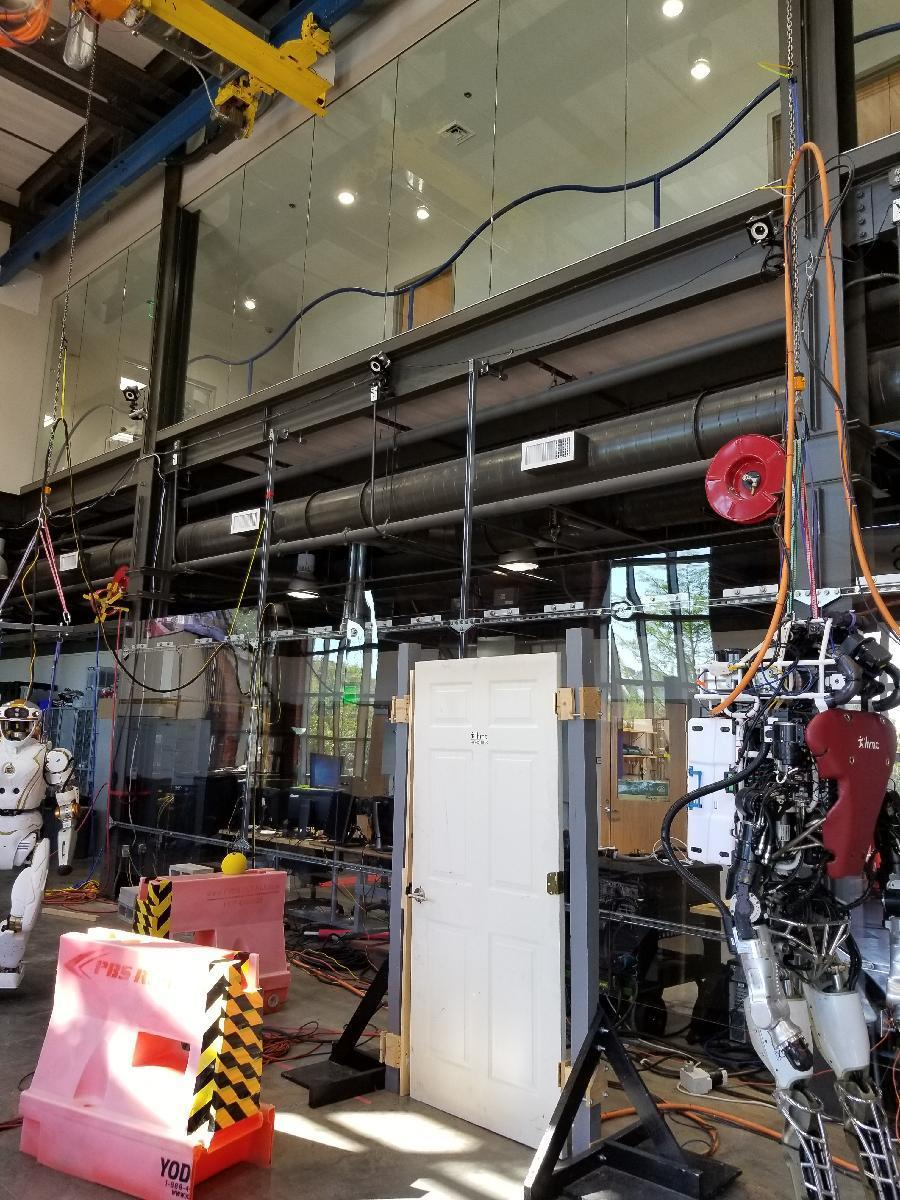door: (414, 663, 574, 1141)
